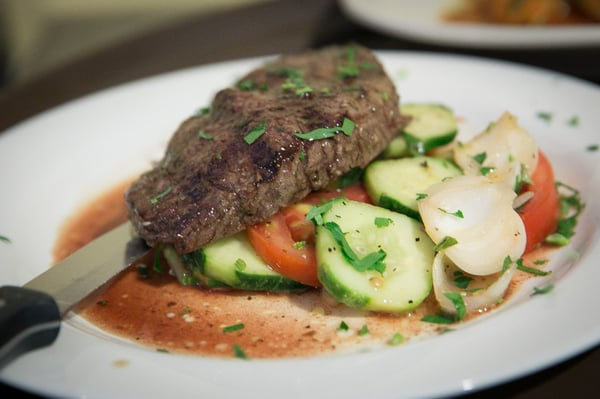sandwich: (0, 221, 152, 381)
soup: (123, 43, 407, 291)
